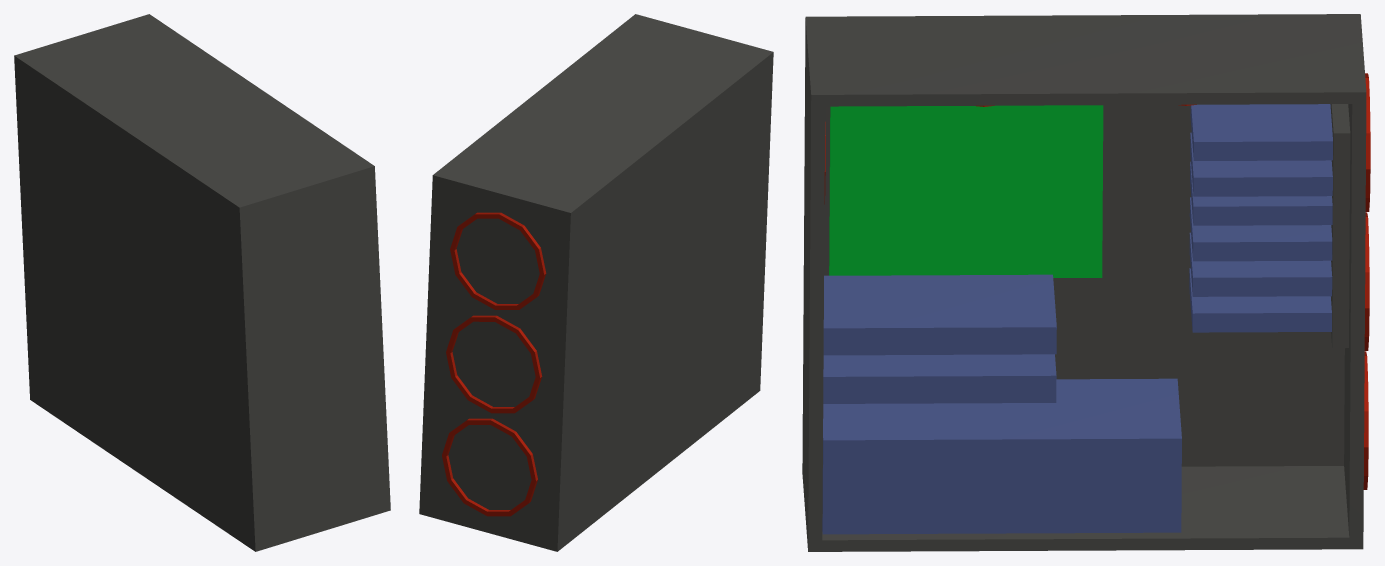
File: lp_gaming_computer(NMTest).glb
3 renders of one model, left to right at view 1: azimuth 30°, elevation 25°; view 2: azimuth 150°, elevation 25°; view 3: azimuth 270°, elevation 25°, orthographic. The views are drawn at different scales.
Visible parts, largest first — view 1: desktopCase.001; view 2: desktopCase.001, desktopFans.001; view 3: desktopCase.001, bigComputerParts.001, squarePart.002, littleComputerParts.001, desktopFans.001.
Boxes of the visible parts, left/top/right/bottom form: desktopCase.001: left=14, top=14, right=390, bottom=551; desktopCase.001: left=419, top=14, right=773, bottom=551; desktopFans.001: left=442, top=212, right=546, bottom=516; desktopCase.001: left=802, top=14, right=1366, bottom=551; bigComputerParts.001: left=822, top=274, right=1181, bottom=534; squarePart.002: left=829, top=105, right=1103, bottom=277; littleComputerParts.001: left=1189, top=104, right=1332, bottom=332; desktopFans.001: left=824, top=73, right=1370, bottom=489.
Size of the model in its own units: 0.4359 by 0.9132 by 1.02.
